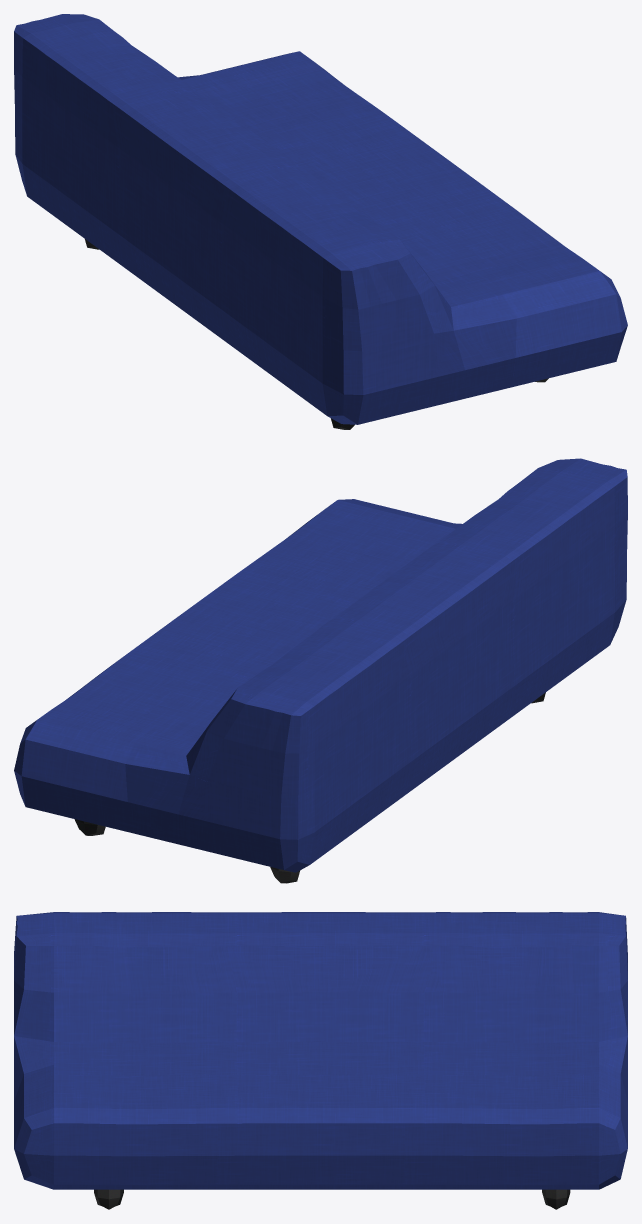
Rendered from chairblue.obj.
The picture shows the model from 3 angles, top to bottom: view 1: azimuth 30°, elevation 25°; view 2: azimuth 150°, elevation 25°; view 3: azimuth 270°, elevation 25°; orthographic projection. The views are drawn at different scales.
Parts seen in each view (by area): view 1: Cube; view 2: Cube; view 3: Cube.
Boxes of the visible parts, left/top/right/bottom form: Cube: left=14, top=14, right=627, bottom=429; Cube: left=14, top=458, right=627, bottom=883; Cube: left=14, top=912, right=627, bottom=1209.
Bounding box in the file's own units: 1.7 × 1.16 × 3.4.
